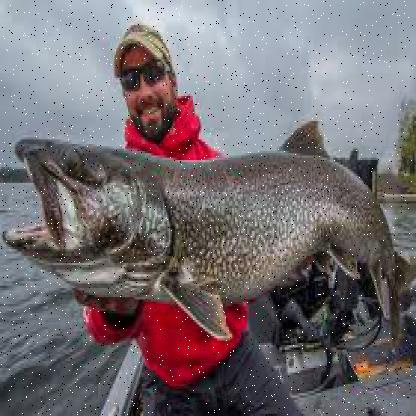fish: (0, 116, 410, 348)
